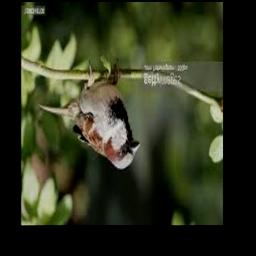Sparrow: (39, 59, 139, 170)
